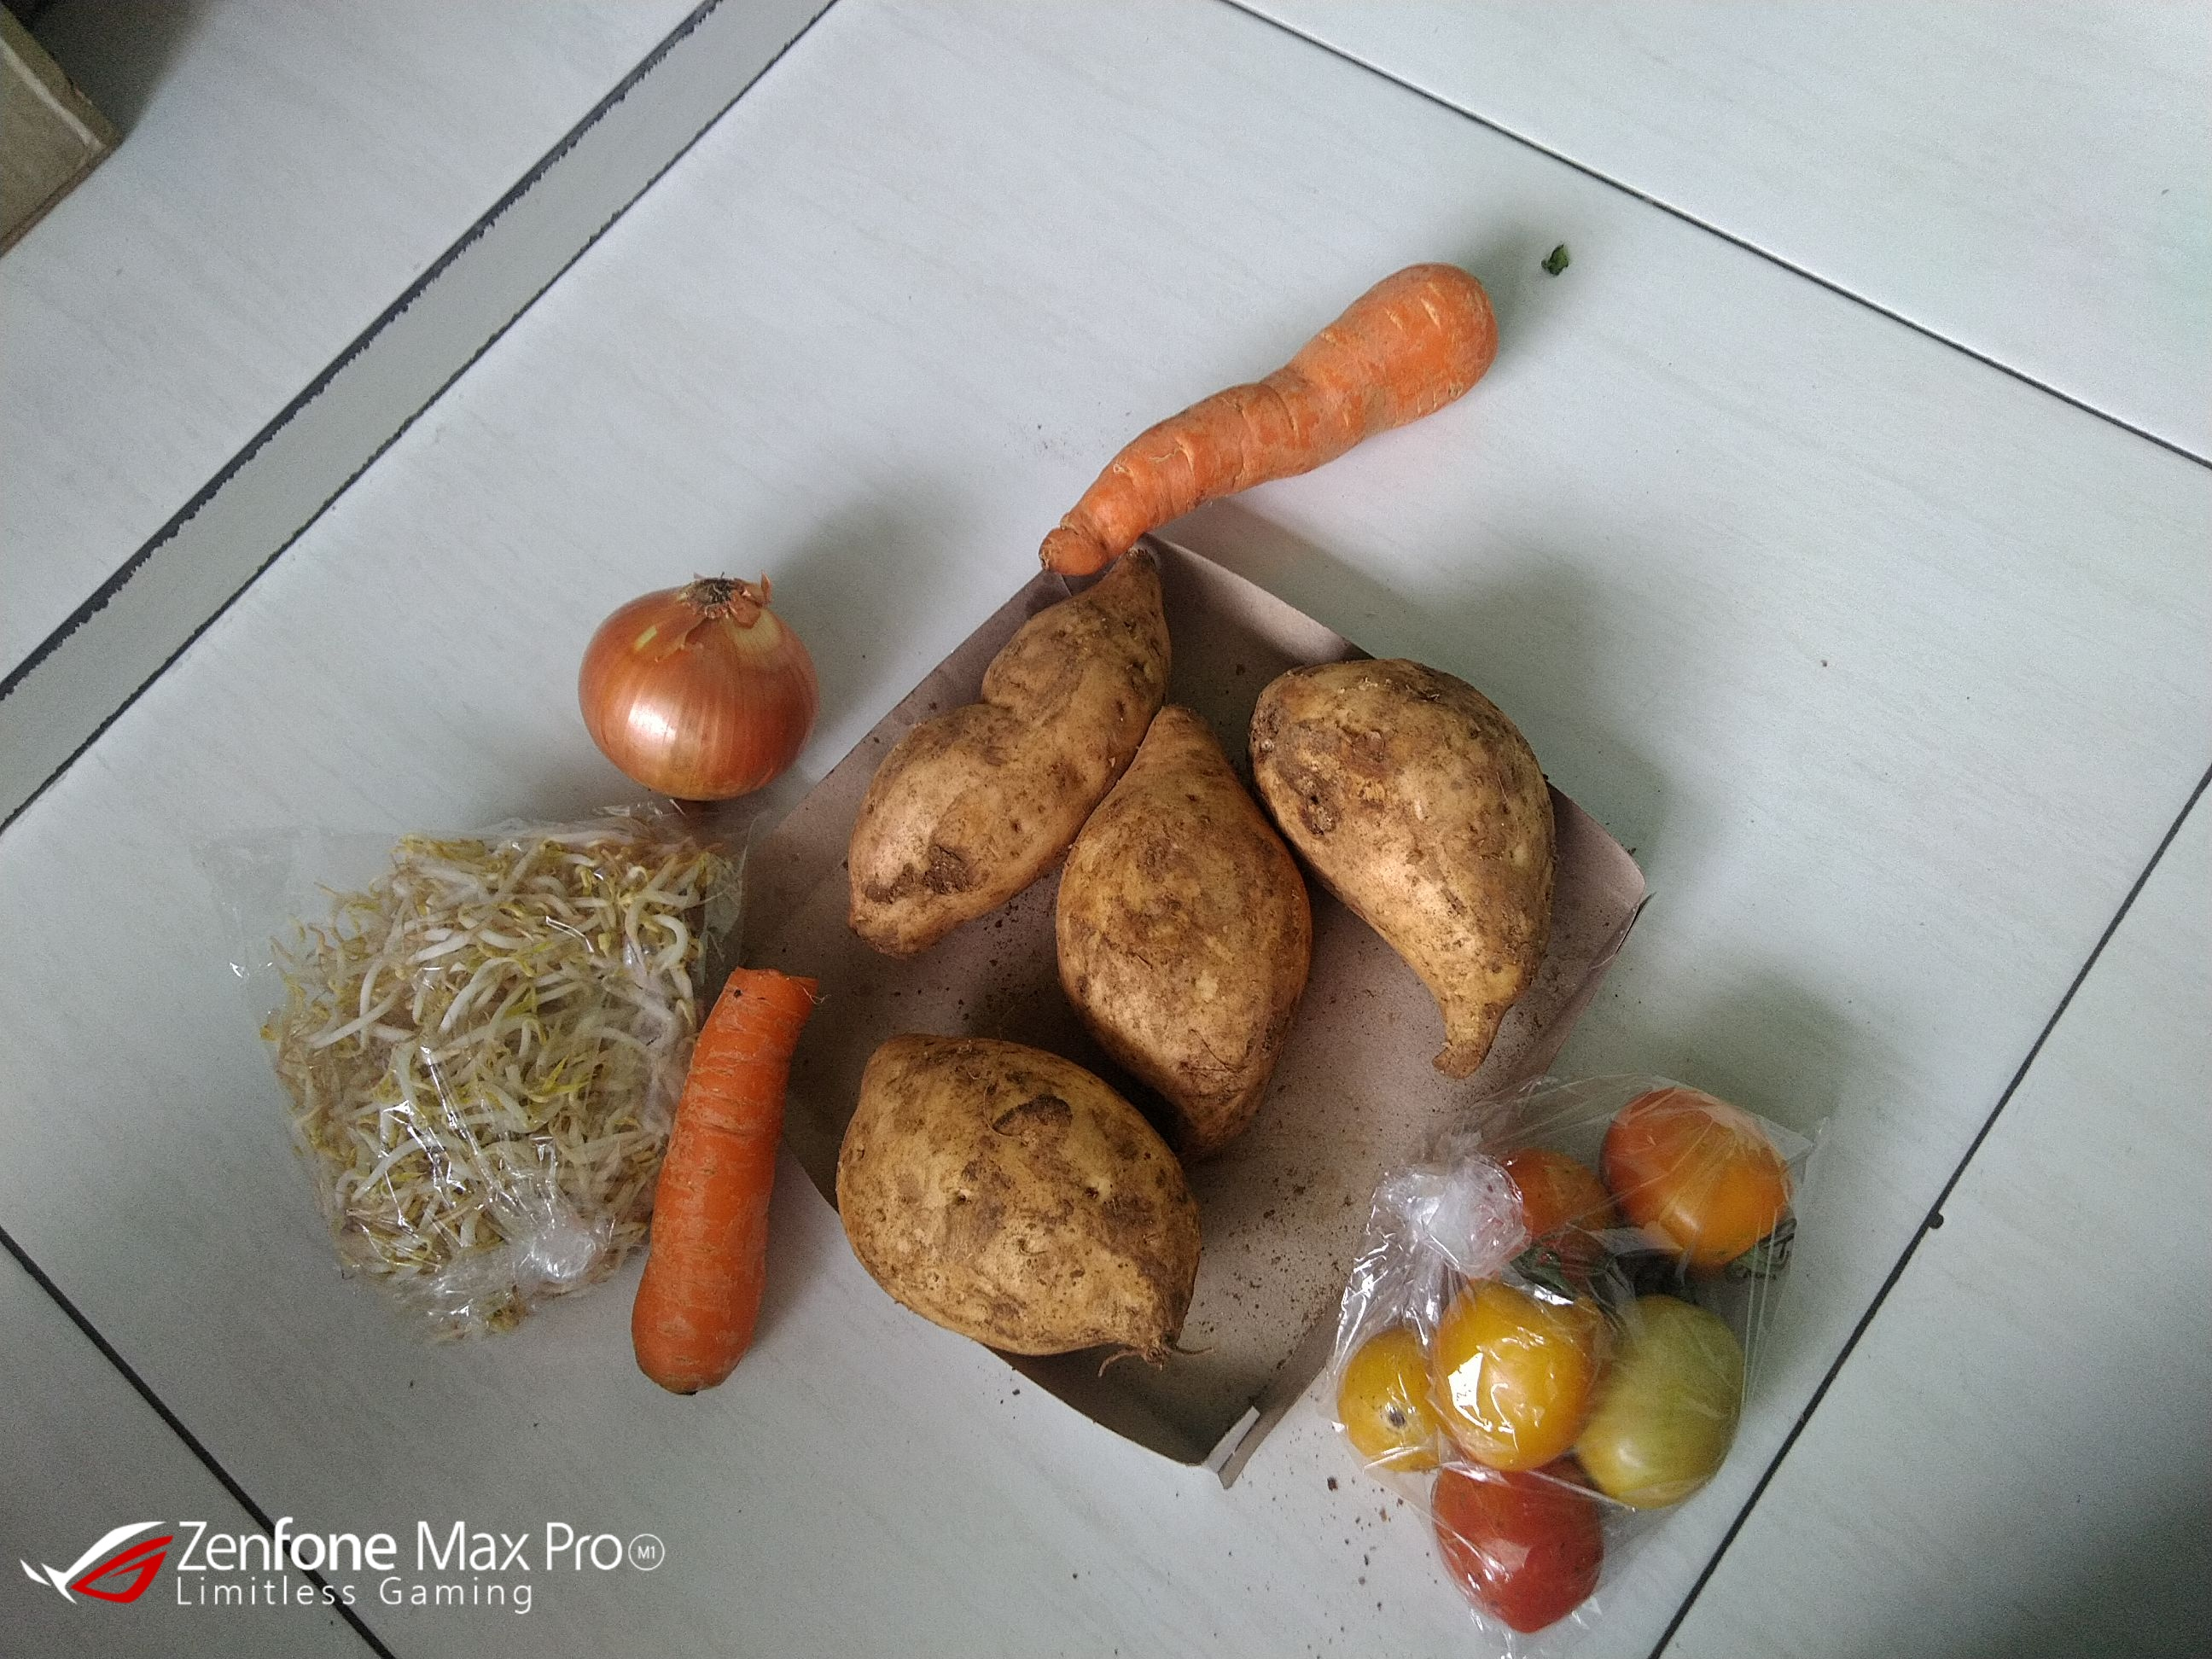ubi kuning: (841, 551, 1202, 969), (824, 1016, 1226, 1380), (1240, 653, 1555, 1072), (1052, 706, 1317, 1171)
